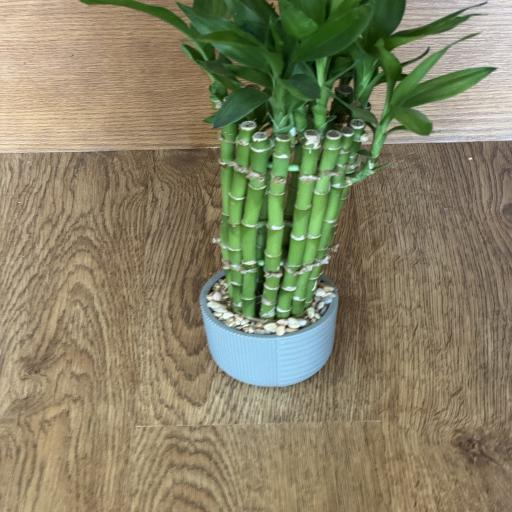Plant Pot: (198, 261, 340, 387)
